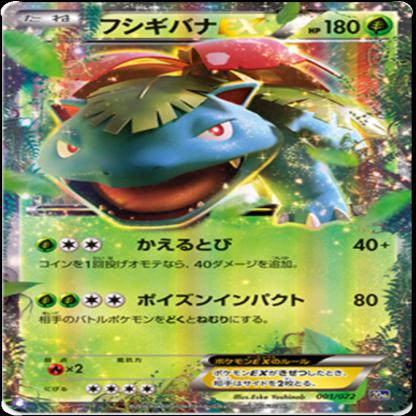Venusaur: (1, 40, 416, 231)
